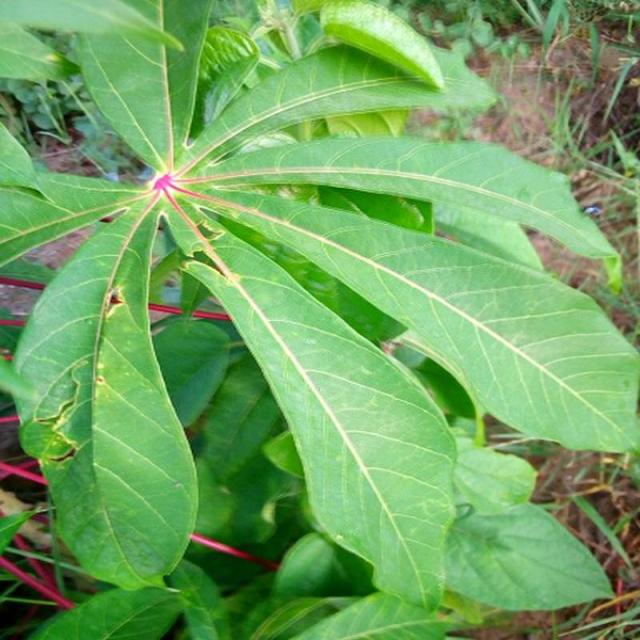cassava leaf: (0, 1, 638, 626), (180, 213, 458, 612), (10, 203, 199, 591)
